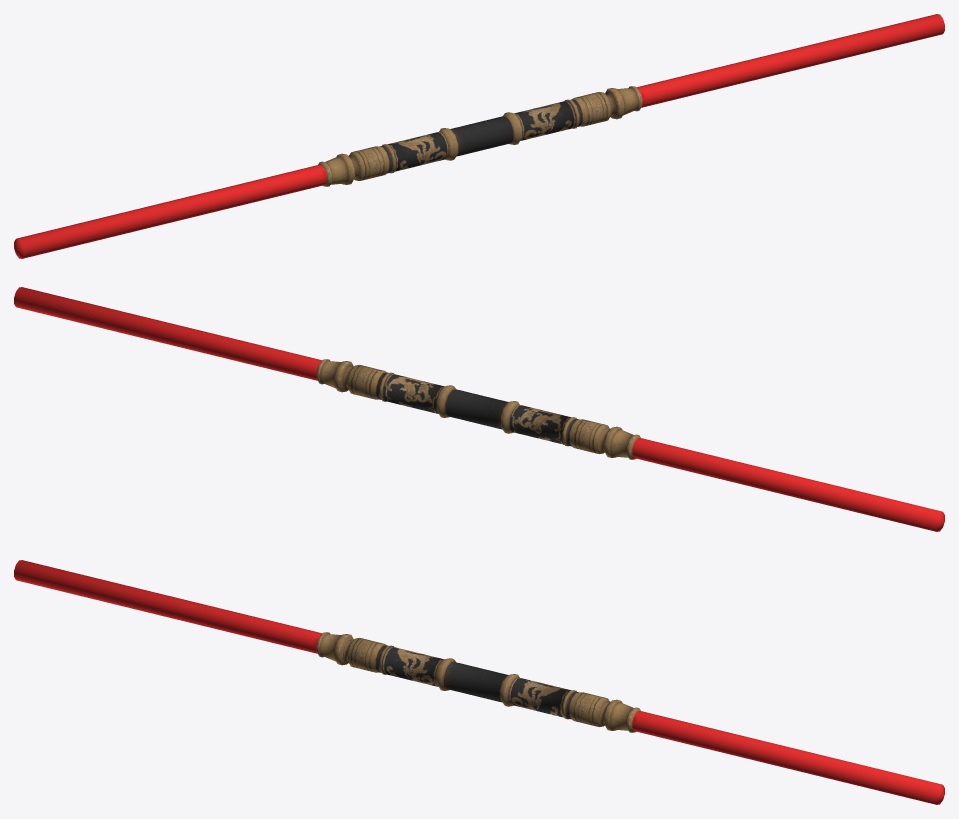
File: weapon_pcz.glb
3 views of the same model, one above another, from view 1: azimuth 30°, elevation 25°; view 2: azimuth 150°, elevation 25°; view 3: azimuth 330°, elevation 25° (orthographic).
Parts seen in each view (by area): view 1: Cos_Weapon_PCZ_01_OutGame; view 2: Cos_Weapon_PCZ_01_OutGame; view 3: Cos_Weapon_PCZ_01_OutGame.
Boxes of the visible parts, x1,y1,x2,y2 form: Cos_Weapon_PCZ_01_OutGame: (14,14,944,258); Cos_Weapon_PCZ_01_OutGame: (14,287,944,531); Cos_Weapon_PCZ_01_OutGame: (14,560,944,804).
Size of the model in its own units: 2.82 by 0.0889 by 0.0845.
1 material, 1 textured.
